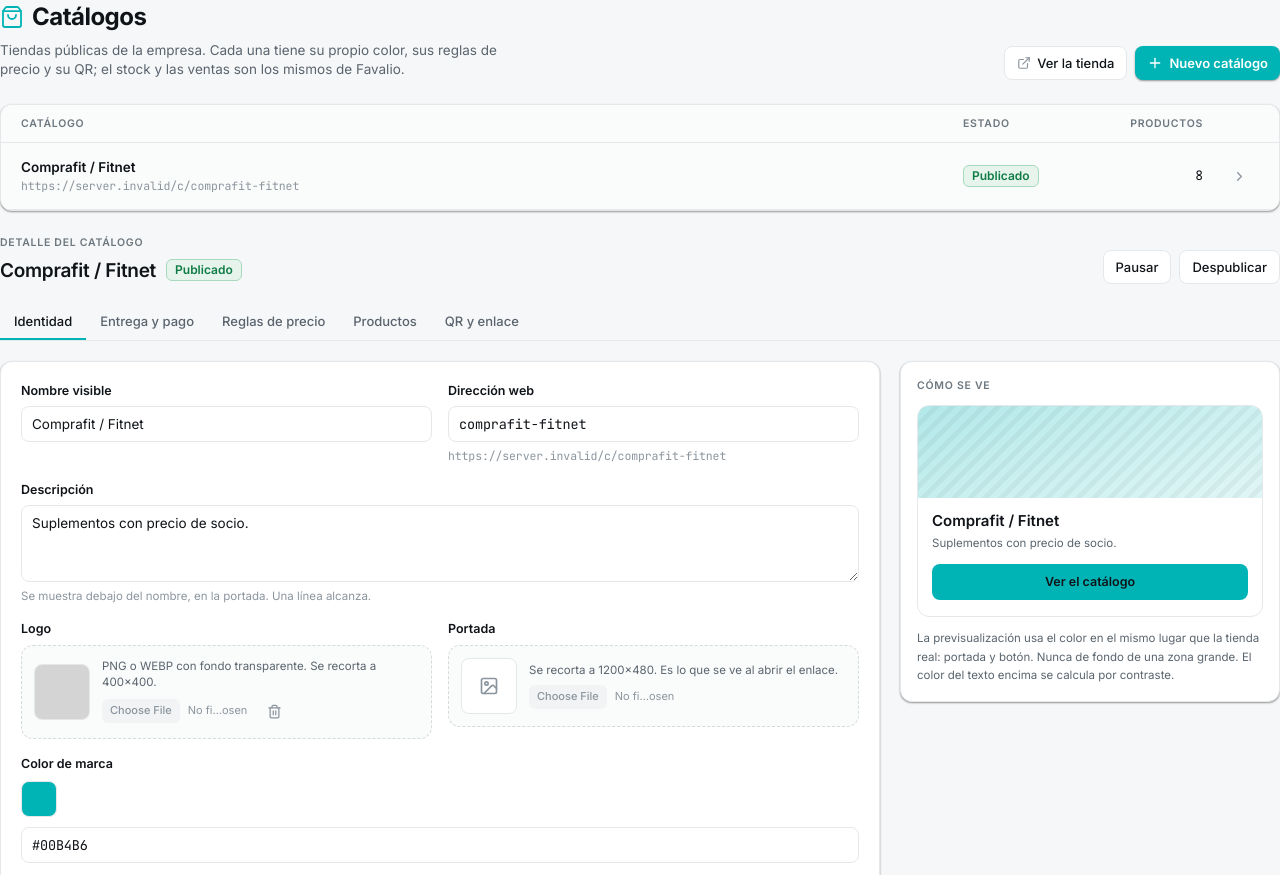
Las reglas de precio › una regla huérfana se dibuja atenuada y con 0 de 0, y no desaparece
Click the tab "Reglas de precio".
click(274, 322)  # box [208,304,339,340]
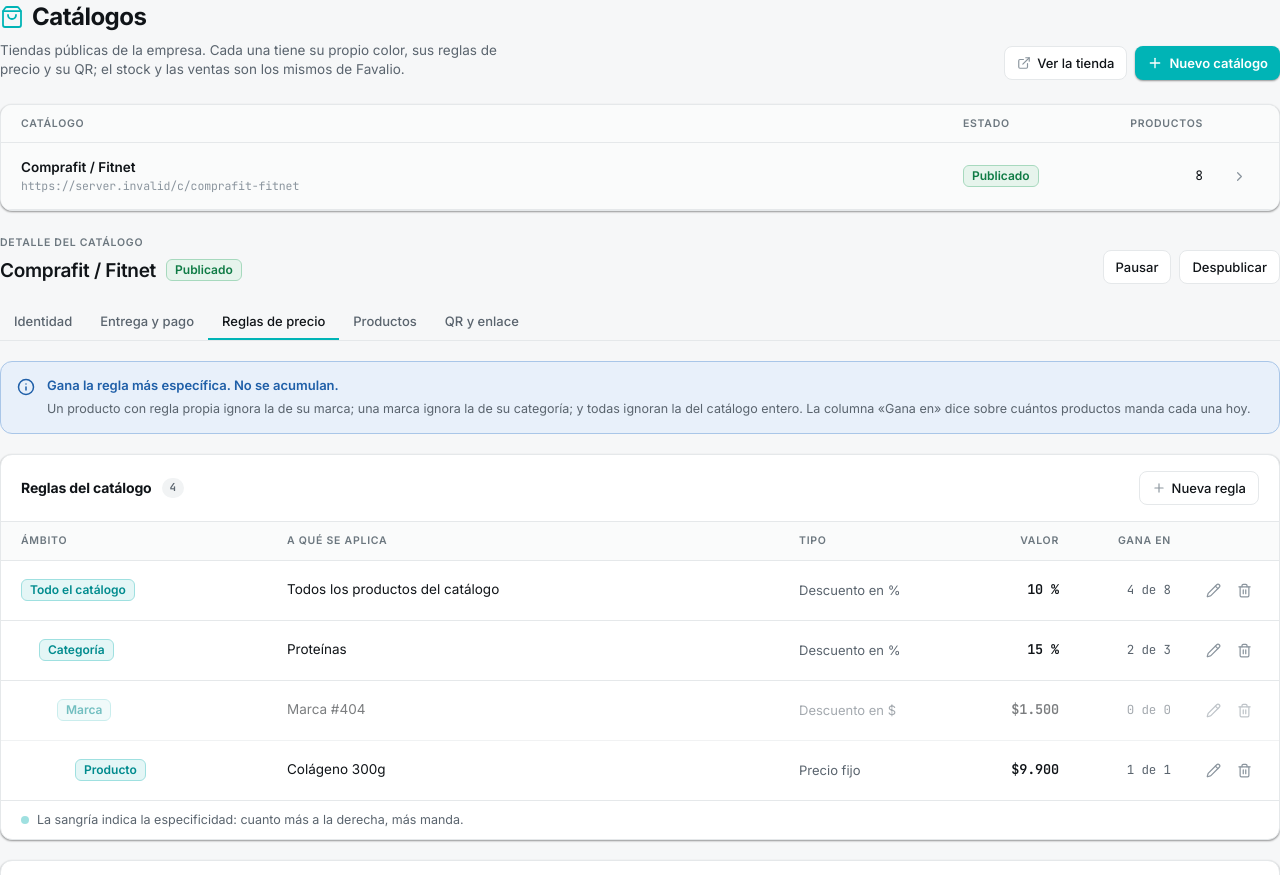
Now the element showing "Marca Marca #404 Descuento en $ $1.500 0 de 0" is shown, box [1,680,1279,740]
Now the text "0 de 0" is shown, box [1127,701,1171,718]
